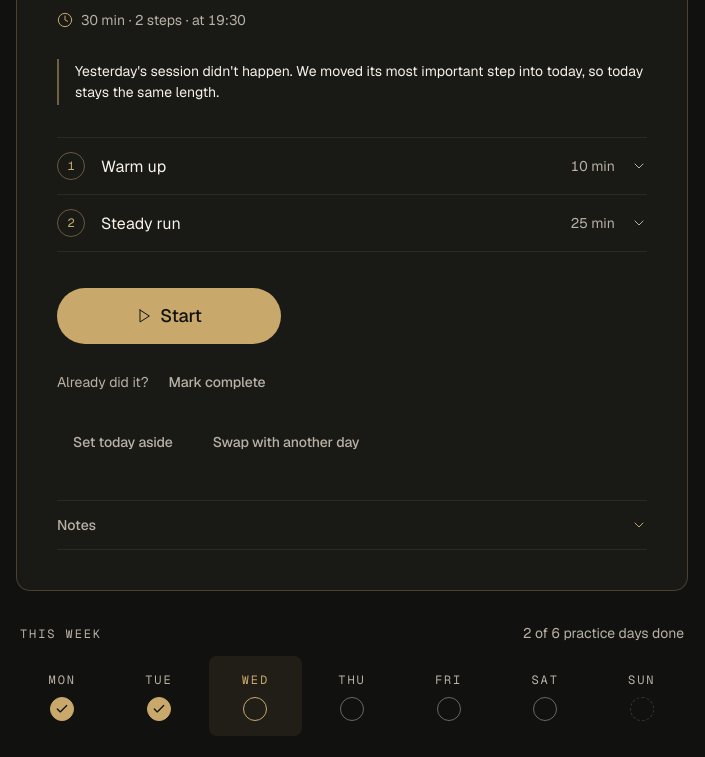
Today › miss notice from reconcile (missed sessions M3.1) › belongs to today only, not to another selected day
(page scrolled)
Expected: the text "session didn't happen" is shown once, [75, 62, 647, 104]
What coordinates should you click on to do the following:
click the button "Thu"
I would click on:
 (352, 696)
Its box is [306, 656, 398, 736].
(page scrolled)
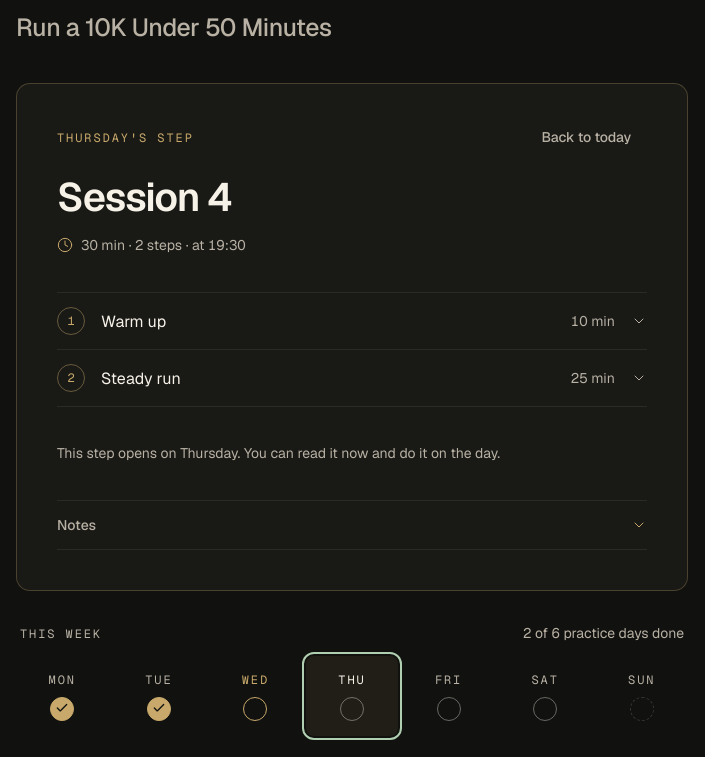
Expected: the text "Thursday's step" is shown, [57, 130, 194, 146]
Expected: the text "session didn't happen" is not shown
